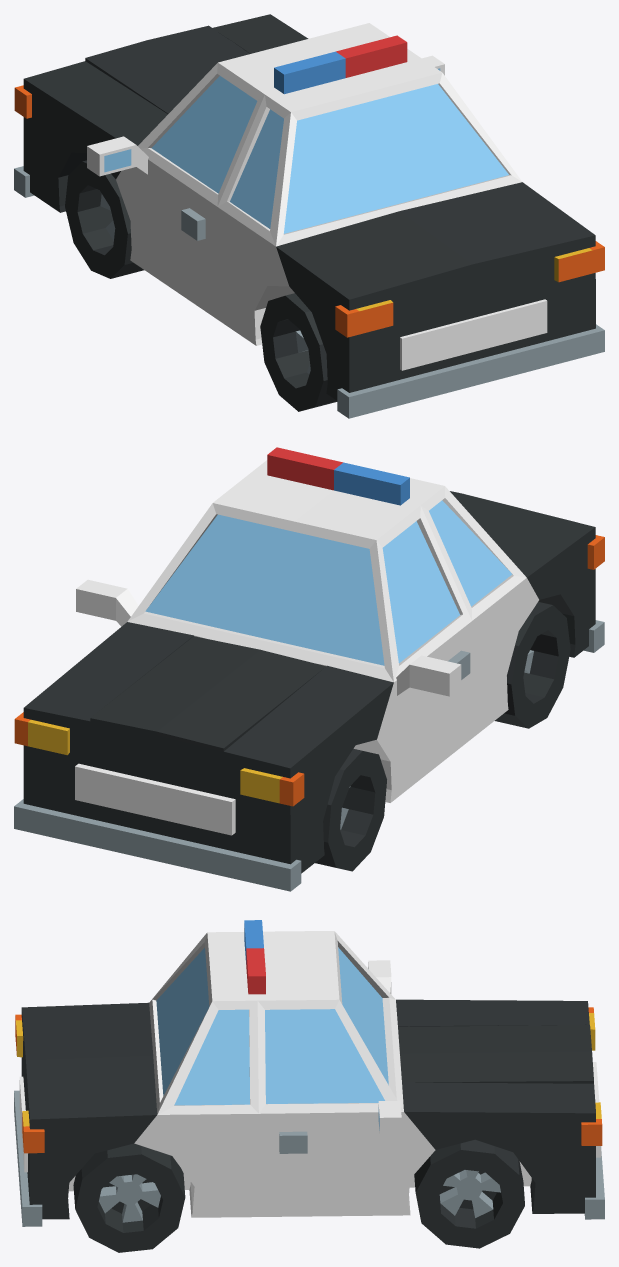
Rendered from Police_Car.glb.
The picture shows the model from 3 angles, top to bottom: view 1: azimuth 30°, elevation 25°; view 2: azimuth 150°, elevation 25°; view 3: azimuth 270°, elevation 25°; orthographic projection. The views are drawn at different scales.
Parts seen in each view (by area): view 1: Cylinder.001; view 2: Cylinder.001; view 3: Cylinder.001.
Part boxes in pixels (bbox=[...]): Cylinder.001: bbox=[14, 14, 604, 418]; Cylinder.001: bbox=[14, 447, 604, 891]; Cylinder.001: bbox=[14, 920, 604, 1252].
Size of the model in its own units: 7.44 by 5.45 by 11.8.
1 material, 1 textured.
